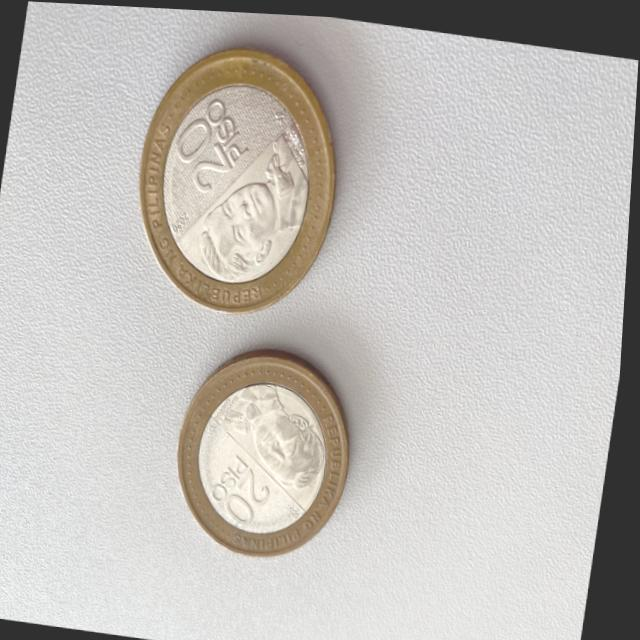20_New_Front: (174, 113, 238, 191), (229, 464, 282, 527)
